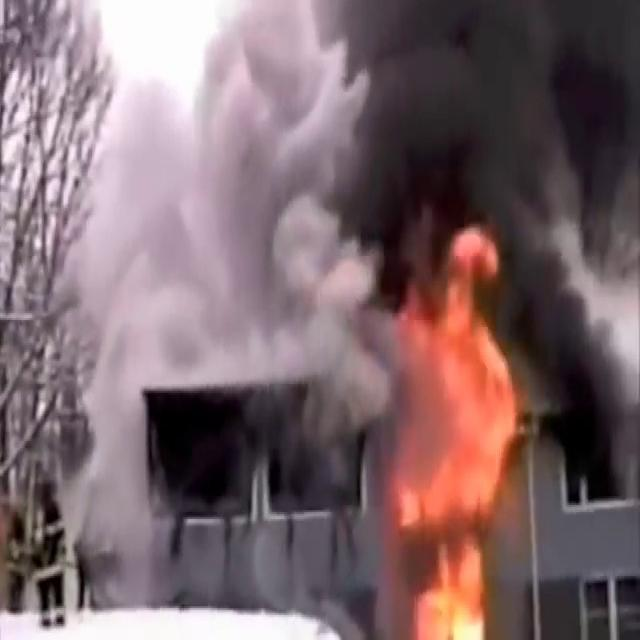Fire: (388, 239, 528, 636)
Smoke: (57, 0, 366, 459), (354, 0, 638, 295)
